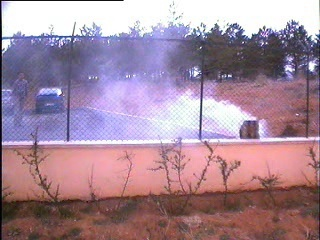smoke: (82, 27, 250, 136)
